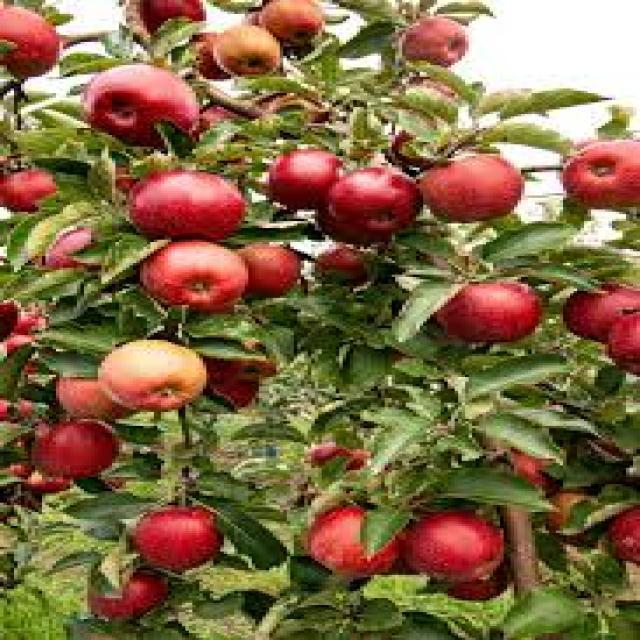Apple: (80, 62, 200, 146), (126, 168, 245, 240), (136, 238, 248, 310), (95, 338, 206, 410), (413, 151, 521, 221), (402, 509, 504, 582), (322, 165, 419, 240), (304, 502, 399, 578), (433, 279, 542, 342), (129, 502, 224, 572), (560, 138, 636, 210), (28, 417, 119, 477), (266, 146, 343, 210), (84, 566, 168, 622), (560, 282, 636, 342), (0, 4, 59, 76), (396, 13, 468, 68), (210, 23, 280, 77), (234, 240, 301, 296), (52, 374, 130, 422), (255, 0, 322, 47), (0, 168, 56, 212), (42, 223, 94, 270), (311, 242, 367, 282), (605, 312, 637, 375), (605, 508, 637, 564)
